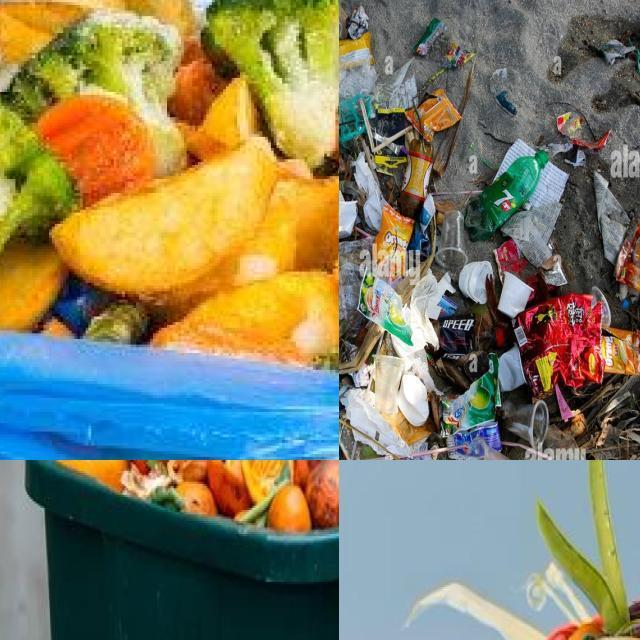Disposable: (502, 401, 549, 449), (435, 211, 468, 277), (374, 354, 404, 414), (458, 261, 492, 304), (466, 437, 512, 460), (339, 0, 347, 40)
Garbage: (339, 0, 640, 460), (406, 460, 640, 640), (54, 460, 339, 530)
Plastic_Bag: (339, 238, 372, 336)
Plastic_bottle: (465, 150, 548, 242), (400, 131, 434, 217)
Plastic_wraper: (514, 294, 604, 396), (443, 354, 501, 437), (358, 273, 413, 346), (405, 88, 461, 142), (414, 19, 474, 69), (339, 32, 377, 104), (601, 327, 640, 374), (614, 222, 640, 291), (438, 296, 458, 316)
